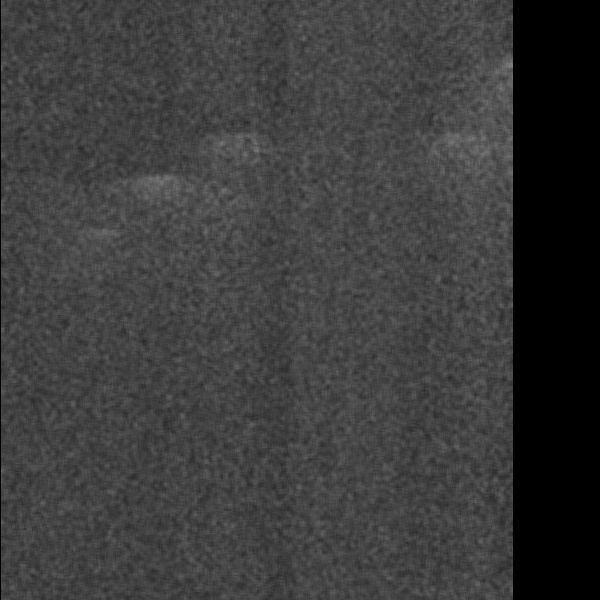spark: (235, 460, 310, 529), (263, 553, 352, 600)
